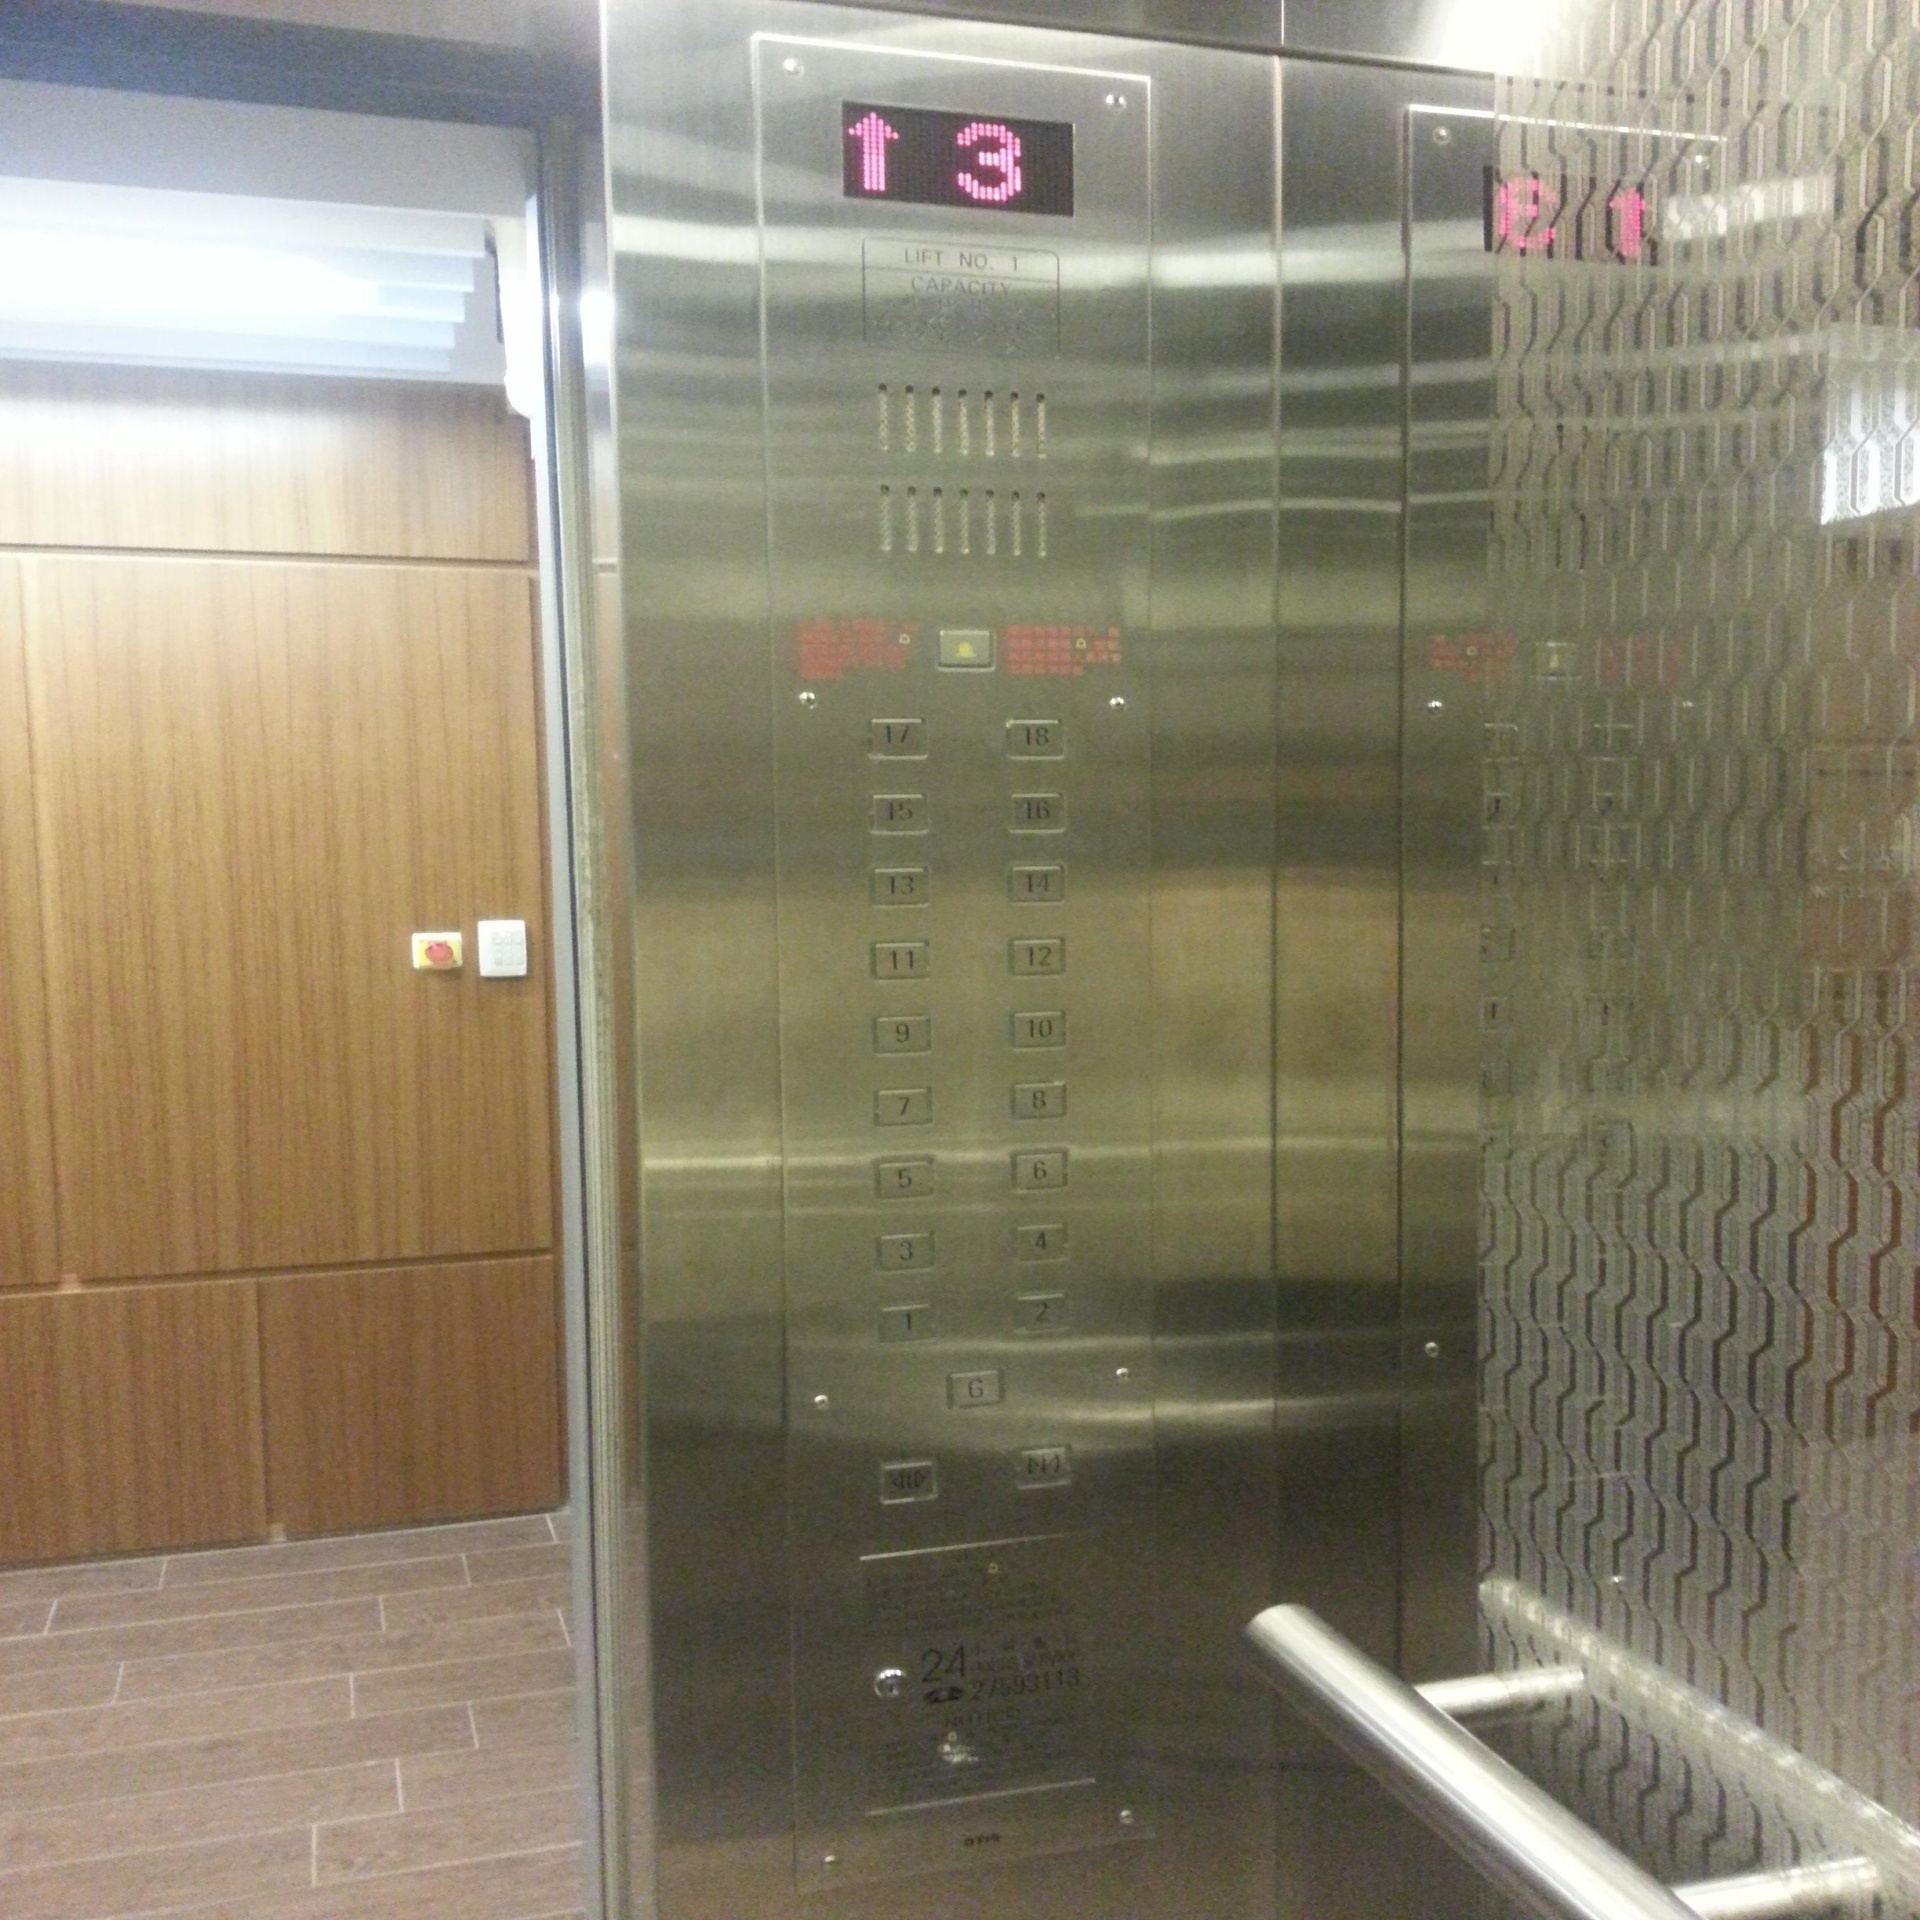1: (876, 1303, 937, 1343)
10: (1009, 1006, 1071, 1051)
11: (869, 937, 934, 983)
12: (1006, 934, 1069, 981)
13: (869, 862, 932, 911)
14: (1007, 860, 1067, 907)
15: (869, 789, 928, 835)
16: (1007, 789, 1065, 833)
17: (867, 714, 928, 761)
18: (1004, 714, 1065, 761)
2: (1013, 1289, 1071, 1335)
3: (874, 1229, 935, 1275)
4: (1011, 1220, 1071, 1262)
5: (872, 1155, 939, 1199)
6: (1011, 1148, 1069, 1192)
7: (870, 1081, 935, 1129)
8: (1007, 1078, 1069, 1122)
9: (870, 1009, 935, 1057)
G: (946, 1366, 1006, 1410)
alarm: (935, 624, 997, 673)
close: (1016, 1442, 1074, 1491)
keyhole: (876, 1667, 907, 1702)
led: (840, 102, 1078, 222)
open: (877, 1456, 939, 1507)
